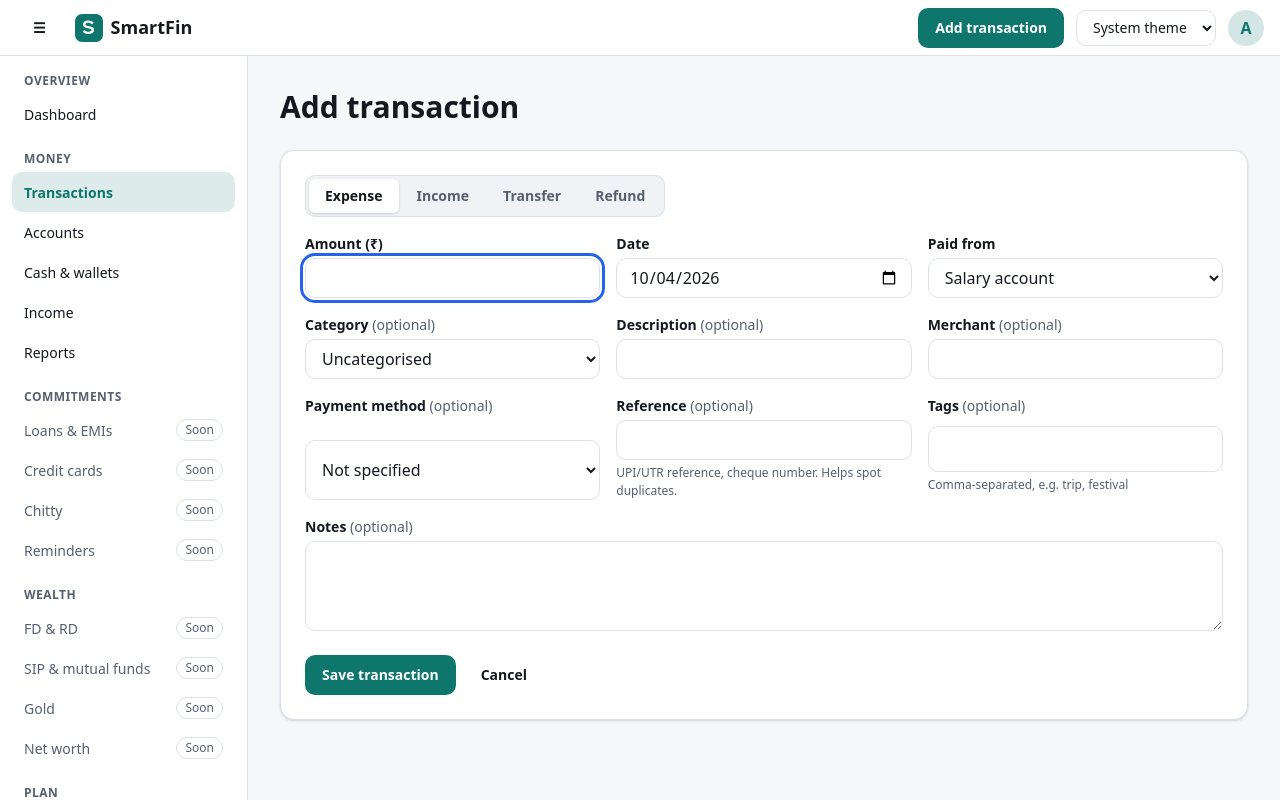
it: adding a transaction › validates, then posts the payload with the CSRF token
The image size is (1280, 800).
Click the button "Save transaction" at (380,674), box [305,654,456,694]
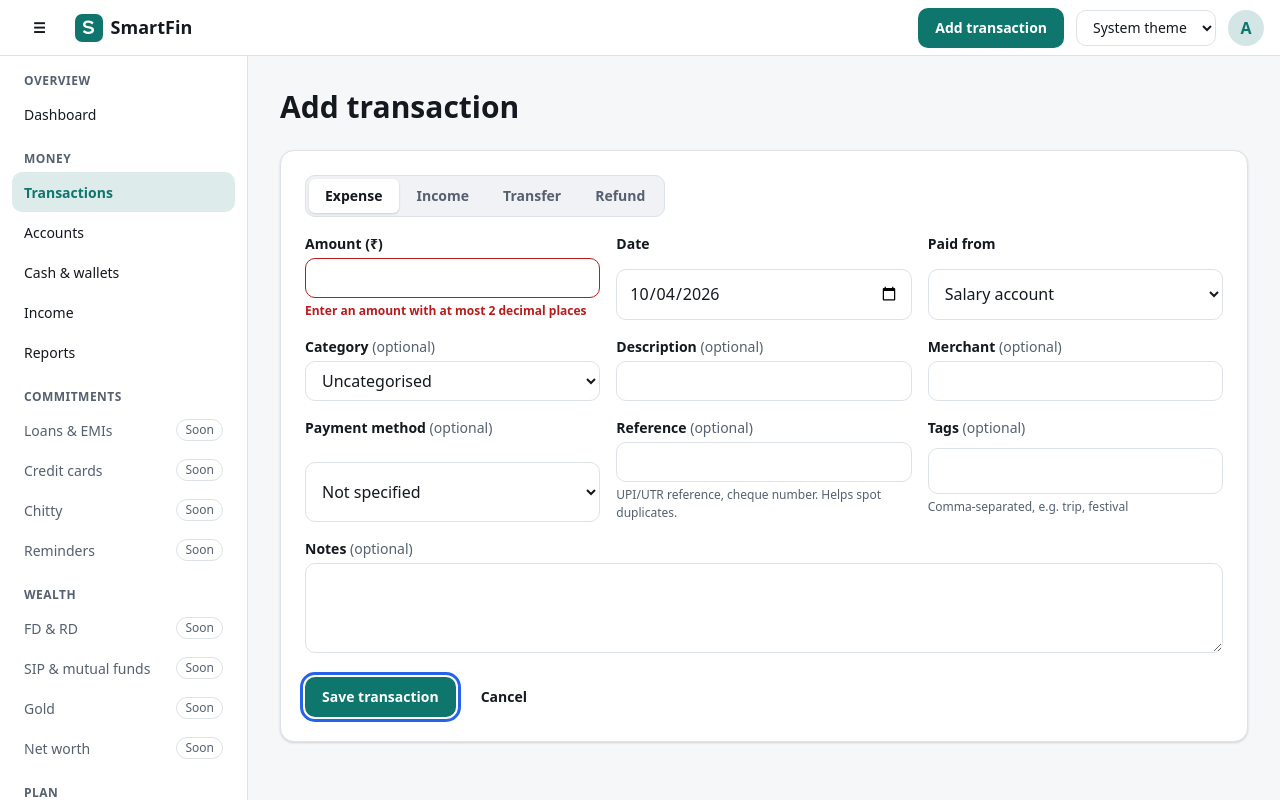
Expected: the text "Enter an amount with at most 2 decimal places" is shown, [305,302,600,320]
Type "1,250.50" into the field labelled "Amount (₹)" at (453,278), box [305,258,600,298]
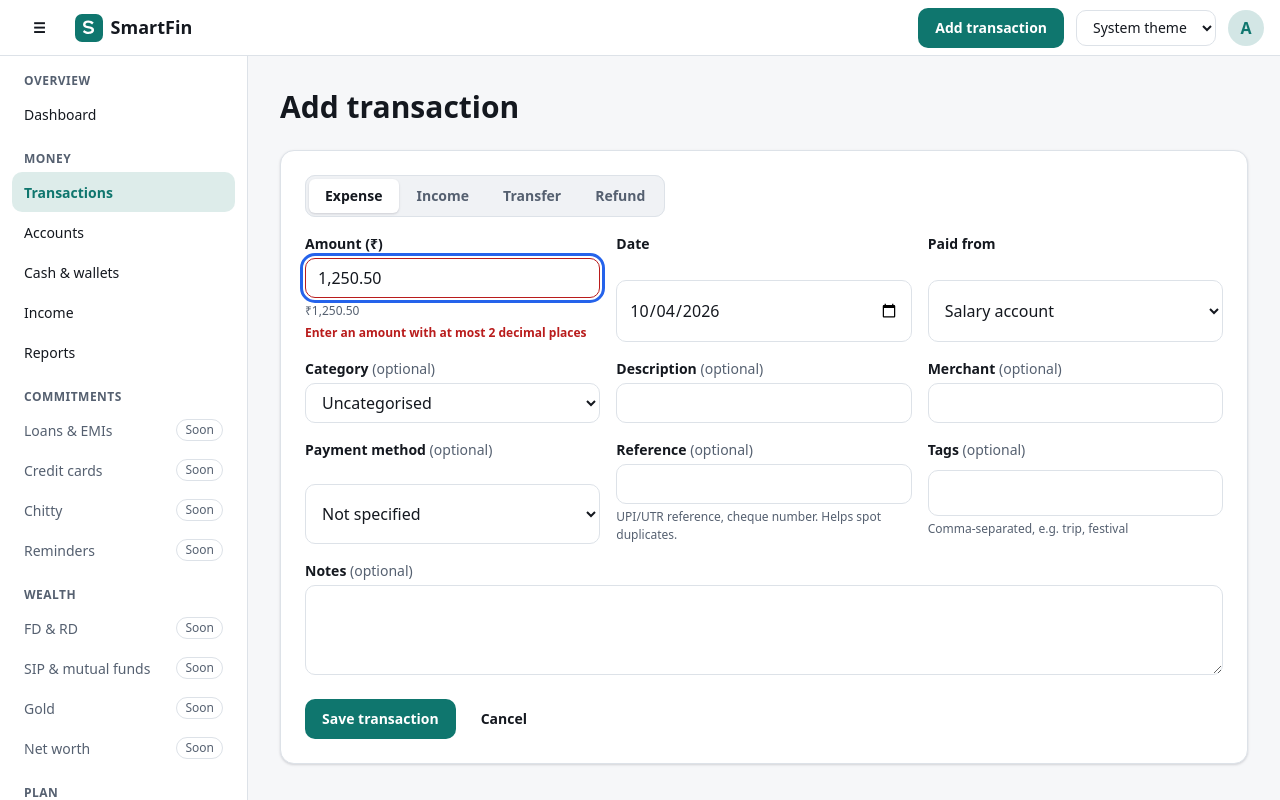
Expected: the text "₹1,250.50" is shown, [305,302,360,318]
Type "Weekly groceries" into the field labelled "Description (optional)" at (764,402), box [616,382,912,422]
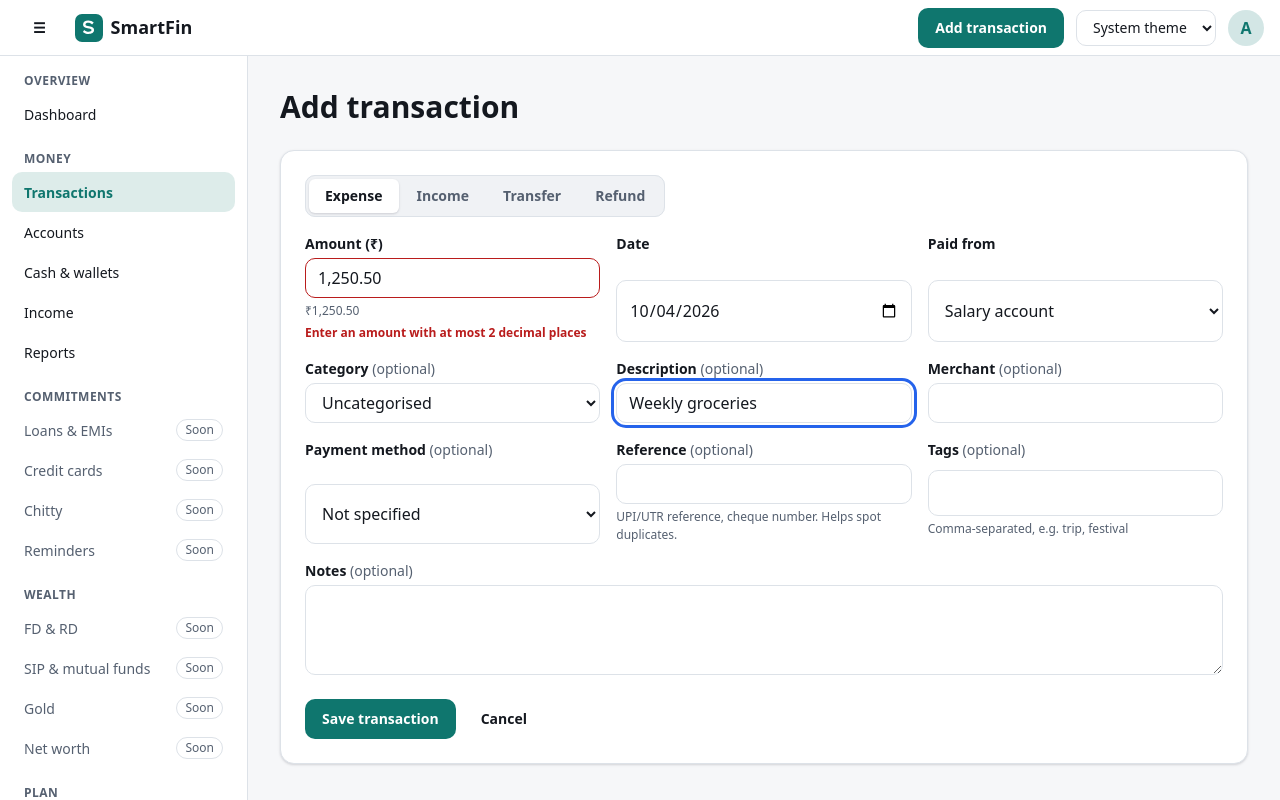
Click the button "Save transaction" at (380,718), box [305,698,456,738]
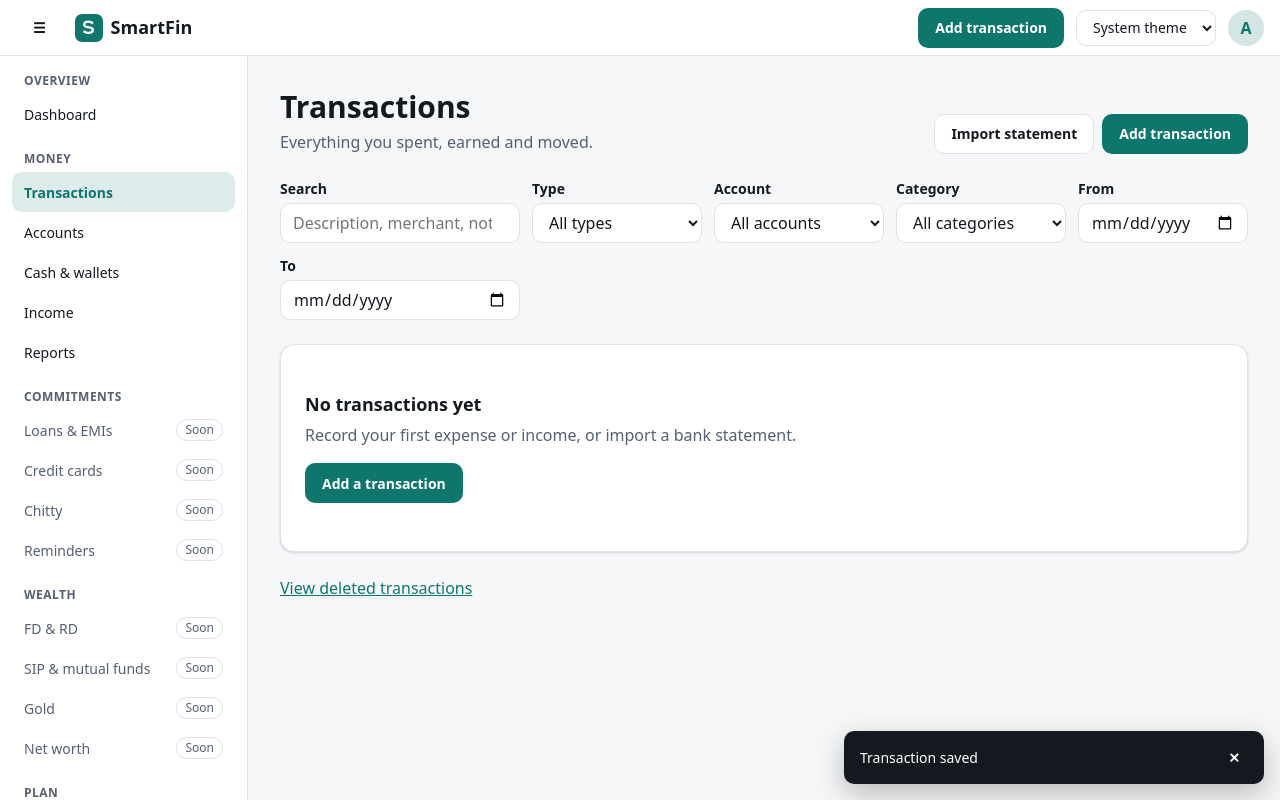
Expected: the text "Transaction saved" is shown, [860,748,978,767]
